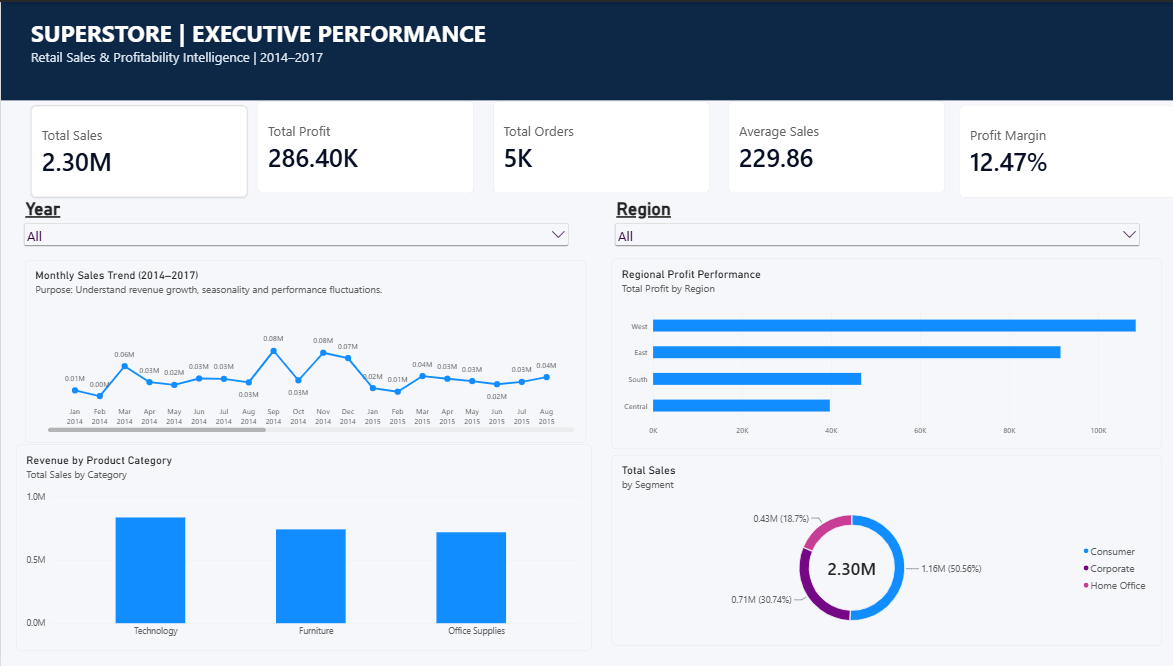

Layout of this report page (visuals, bound fields, positions):
{"tool":"powerbi","page":{"name":"Executive Overview","canvas":[1920,1080],"ordinal":0},"visuals":[{"type":"cardVisual","fields":{"Data":["FactSales.Total Sales"]},"box":[48,168,352,150],"z":0},{"type":"cardVisual","fields":{"Data":["FactSales.Total Profit"]},"box":[416,160,352,150],"z":1000},{"type":"cardVisual","fields":{"Data":["FactSales.Total Orders"]},"box":[800,160,352,150],"z":2000},{"type":"cardVisual","fields":{"Data":["FactSales.Average Sales"]},"box":[1184,160,352,150],"z":3000},{"type":"cardVisual","fields":{"Data":["FactSales.Profit Margin"]},"box":[1560,168,352,150],"z":4000},{"type":"textbox","box":[16.7,46.7,1883.3,73.3],"z":5000},{"type":"lineChart","title":"Monthly Sales Trend (2014–2017)","fields":{"Category":["DimDate.YearMonth"],"Y":["FactSales.Total Sales"]},"box":[39,419.6,912.5,297.7],"z":6000},{"type":"clusteredBarChart","title":"Regional Profit Performance","fields":{"Category":["FactSales.Region"],"Y":["FactSales.Total Profit"]},"box":[992,416,895.4,309.9],"z":7000},{"type":"clusteredColumnChart","title":"Revenue by Product Category","fields":{"Category":["FactSales.Category"],"Y":["FactSales.Total Sales"]},"box":[24,720,936,336],"z":8000},{"type":"donutChart","fields":{"Category":["FactSales.Segment"],"Y":["FactSales.Total Sales"]},"box":[992,736,895.4,309.9],"z":9000},{"type":"shape","box":[0,0,1920,160],"z":9500},{"type":"slicer","fields":{"Values":["DimDate.Year"]},"box":[32,320,896,96],"z":10000},{"type":"slicer","fields":{"Values":["FactSales.Region"]},"box":[992,320,864,96],"z":12000},{"type":"textbox","box":[48,24,1824,144],"z":13000}]}

Visuals, with their boxes in screenshot pixels (x1, y1, x2, y2), scaled from the page's 1920x1080 canvas onto the 1173x666 screenshot:
cardVisual - FactSales.Total Sales: box=[29, 104, 244, 196]
cardVisual - FactSales.Total Profit: box=[254, 99, 469, 191]
cardVisual - FactSales.Total Orders: box=[489, 99, 704, 191]
cardVisual - FactSales.Average Sales: box=[723, 99, 938, 191]
cardVisual - FactSales.Profit Margin: box=[953, 104, 1168, 196]
textbox: box=[10, 29, 1161, 74]
"Monthly Sales Trend (2014–2017)" lineChart: box=[24, 259, 581, 442]
"Regional Profit Performance" clusteredBarChart: box=[606, 257, 1153, 448]
"Revenue by Product Category" clusteredColumnChart: box=[15, 444, 586, 651]
donutChart - FactSales.Segment x FactSales.Total Sales: box=[606, 454, 1153, 645]
shape: box=[0, 0, 1172, 99]
slicer - DimDate.Year: box=[20, 197, 567, 257]
slicer - FactSales.Region: box=[606, 197, 1134, 257]
textbox: box=[29, 15, 1144, 104]
